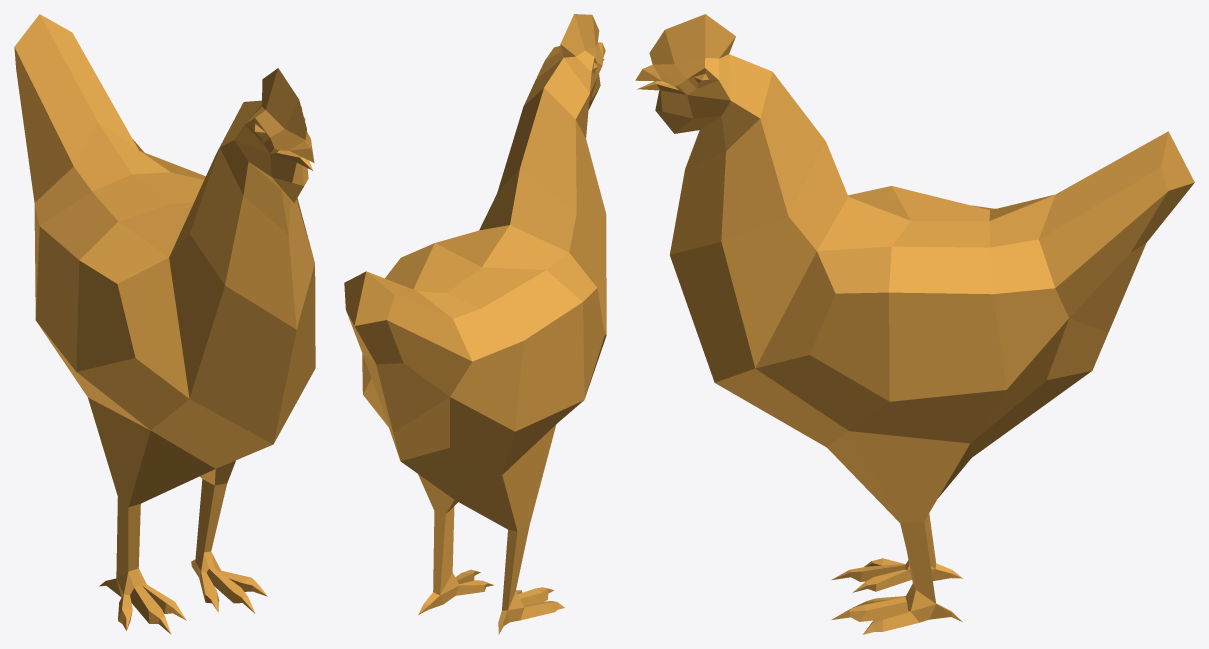
The model's file is hen.fbx.
3 views of the same model, side by side, from view 1: azimuth 30°, elevation 25°; view 2: azimuth 150°, elevation 25°; view 3: azimuth 270°, elevation 25° (orthographic). The views are drawn at different scales.
Parts seen in each view (by area): view 1: hen; view 2: hen; view 3: hen.
Boxes of the visible parts, x1,y1,x2,y2 form: hen: [14, 14, 315, 634]; hen: [344, 14, 606, 634]; hen: [635, 14, 1194, 634].
Bounding box in the file's own units: 0.2027 × 0.5486 × 0.4737.
